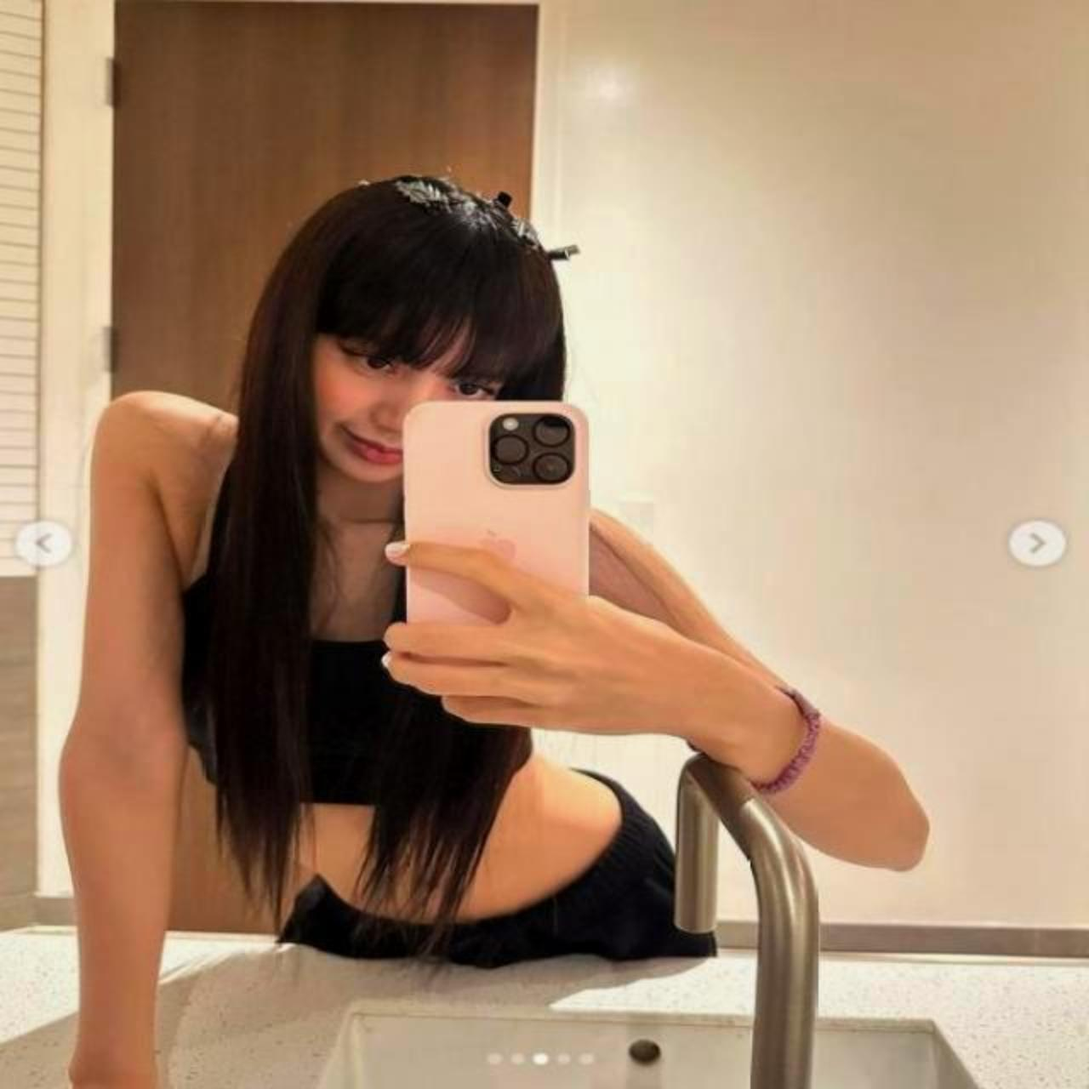phone: (391, 391, 599, 694)
